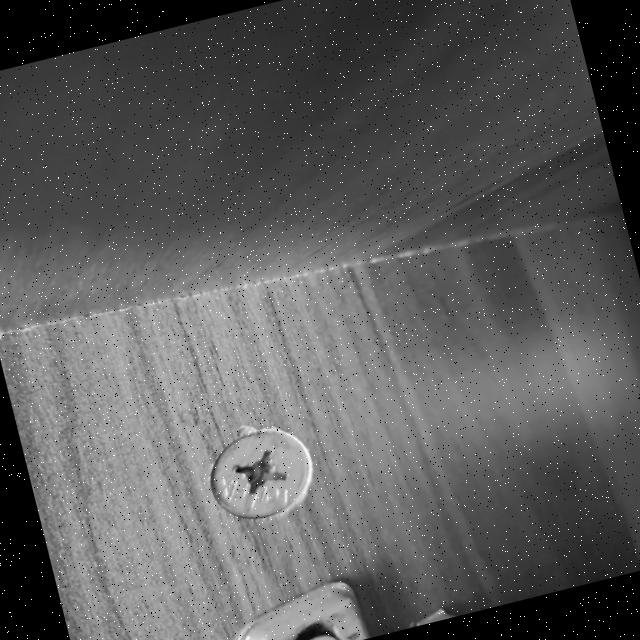Phillips: (196, 406, 344, 530)
